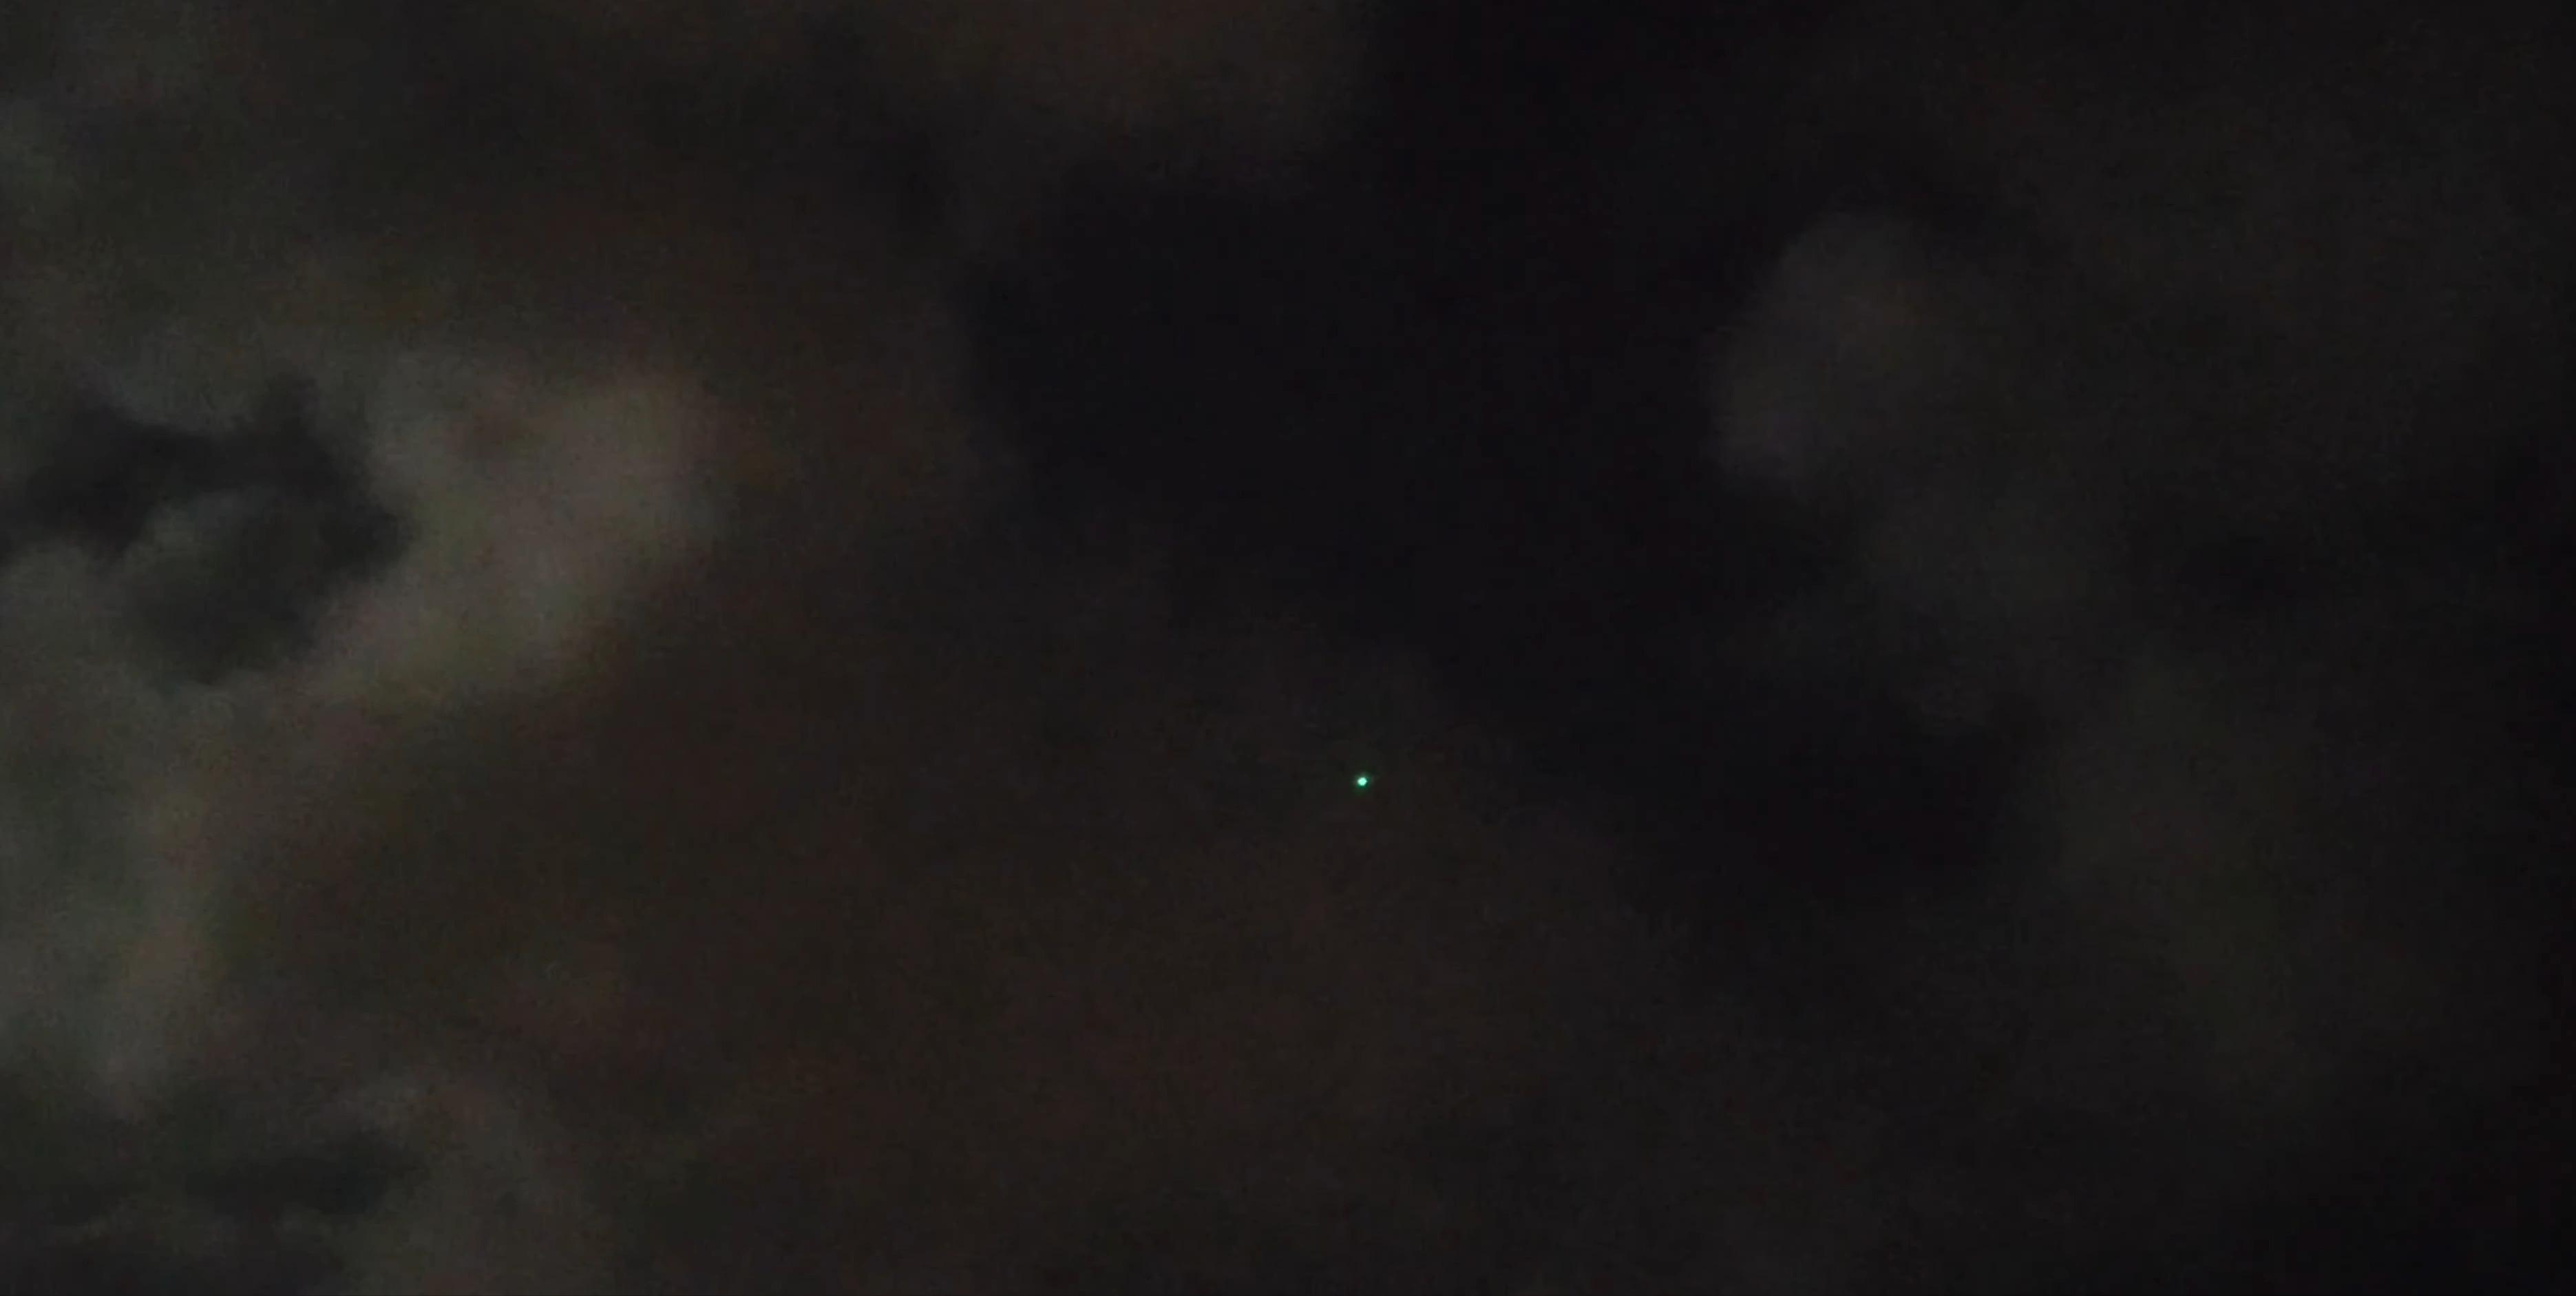Plane: (1333, 762, 1388, 803)
